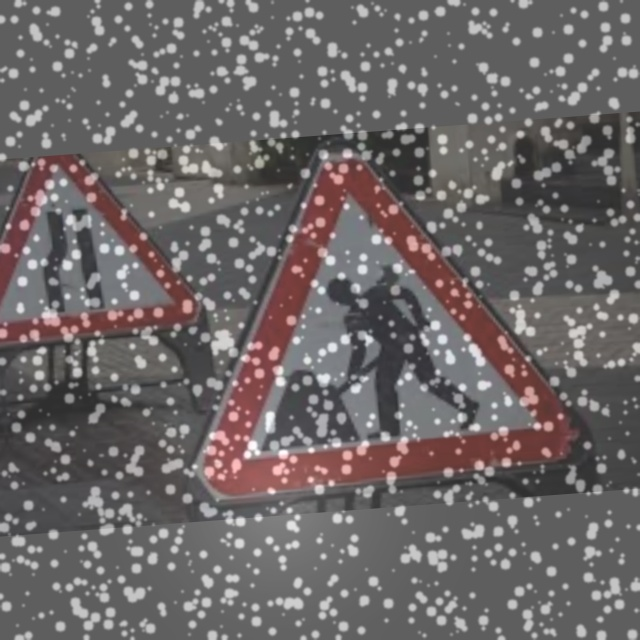Men_at_Work: (174, 163, 574, 511)
